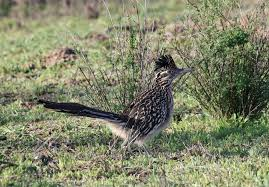Walking: (32, 49, 207, 162)
